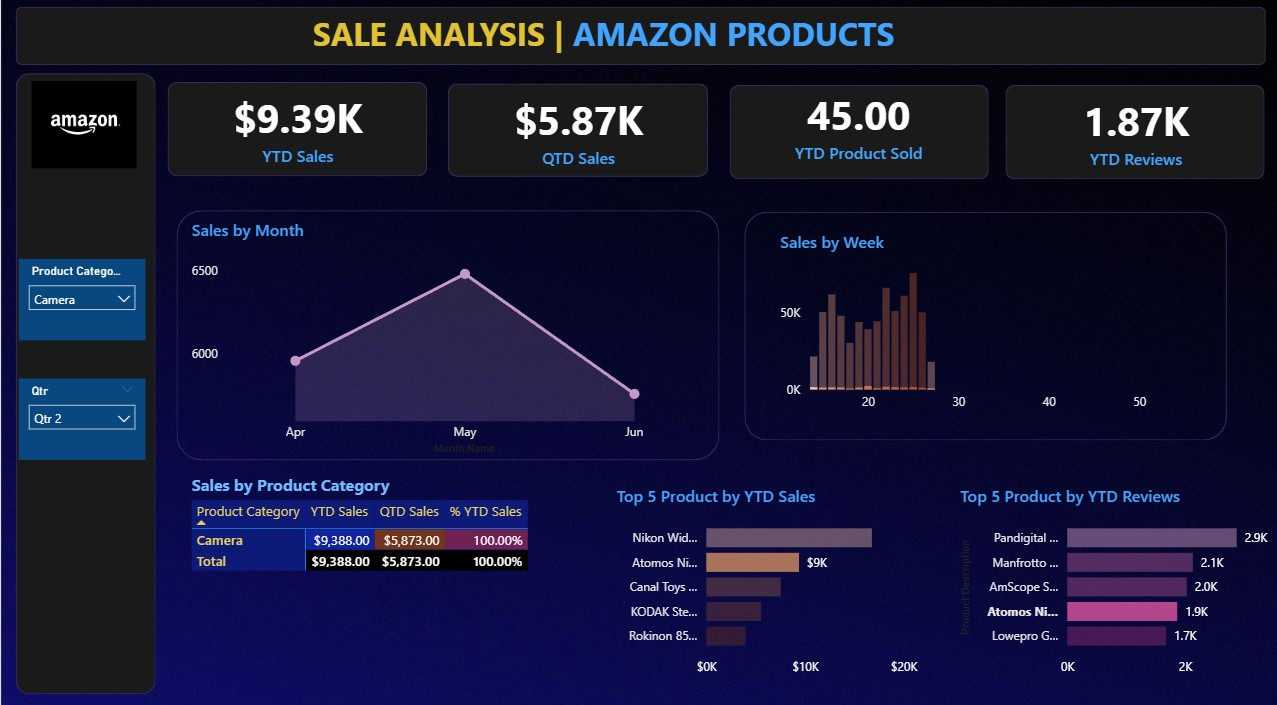

The page's visual inventory and layout, read from the dashboard file:
{"tool":"powerbi","page":{"name":"Page 1","canvas":[1280,720],"ordinal":0},"visuals":[{"type":"shape","box":[15.2,11.4,1250.1,58.1],"z":0},{"type":"textbox","box":[306.8,11.4,765.2,152.8],"z":1000},{"type":"shape","box":[15.2,78.3,140,621.3],"z":2000},{"type":"shape","box":[166.7,87,259.6,94.4],"z":3000},{"type":"card","fields":{"Values":["Amazon_Data.YTD Sales"]},"box":[197.7,90,199.2,85.6],"z":4000},{"type":"shape","box":[446.8,88.4,260.3,93.2],"z":5000},{"type":"shape","box":[729,89.6,259.1,94.5],"z":6000},{"type":"shape","box":[1005.1,89.6,259.1,94.5],"z":7000},{"type":"card","fields":{"Values":["Amazon_Data.QTD Sales"]},"box":[478.3,92,199.8,86],"z":8000},{"type":"card","fields":{"Values":["Amazon_Data.YTD Product Sold"]},"box":[758,87.2,199.8,84.8],"z":9000},{"type":"card","fields":{"Values":["Amazon_Data.YTD Reviews"]},"box":[1035.3,93.2,199.8,86],"z":10000},{"type":"shape","box":[175.5,215.9,543,250],"z":11000},{"type":"areaChart","title":"Sales by Month","fields":{"Category":["Date Table.Month Name"],"Y":["Sum(Amazon_Data.Price(Dollar))"]},"box":[185.9,224.2,520.7,240.5],"z":12000},{"type":"columnChart","title":"Sales by Week","fields":{"Category":["Date Table.Week"],"Y":["Sum(Amazon_Data.Price(Dollar))"]},"box":[774.5,236,421.9,188.8],"z":13000},{"type":"pivotTable","title":"Sales by Product Category","fields":{"Rows":["Amazon_Data.Product Category"],"Values":["Amazon_Data.YTD Sales1","Amazon_Data.QTD Sales","Amazon_Data.YTD Sales"]},"box":[185.9,479.4,439.6,219.8],"z":14000},{"type":"clusteredBarChart","title":"Top 5 Product by YTD Sales","fields":{"Y":["Amazon_Data.YTD Sales"],"Category":["Amazon_Data.Product Description"]},"box":[610.7,489.8,326,200.6],"z":15000},{"type":"clusteredBarChart","title":"Top 5 Product by YTD Reviews","fields":{"Category":["Amazon_Data.Product Description"],"Y":["Amazon_Data.YTD Reviews"]},"box":[954.4,489.8,326,200.6],"z":16000},{"type":"slicer","fields":{"Values":["Amazon_Data.Product Category"]},"box":[17.7,264.1,126.9,81.1],"z":17000},{"type":"slicer","fields":{"Values":["Date Table.Qtr"]},"box":[17.7,383.5,126.9,81.1],"z":18000},{"type":"image","box":[0,81.1,166.7,97.4],"z":19000},{"type":"shape","box":[743.5,216.9,482.4,228.7],"z":19001}]}

Visuals, with their boxes in screenshot pixels (x1, y1, x2, y2), scaled from the page's 1280x720 canvas onto the 1277x705 screenshot:
shape: (15,11,1262,68)
textbox: (306,11,1069,161)
shape: (15,77,155,685)
shape: (166,85,425,178)
card - Amazon_Data.YTD Sales: (197,88,396,172)
shape: (446,87,705,178)
shape: (727,88,986,180)
shape: (1003,88,1261,180)
card - Amazon_Data.QTD Sales: (477,90,677,174)
card - Amazon_Data.YTD Product Sold: (756,85,956,168)
card - Amazon_Data.YTD Reviews: (1033,91,1232,175)
shape: (175,211,717,456)
"Sales by Month" areaChart: (185,220,705,455)
"Sales by Week" columnChart: (773,231,1194,416)
"Sales by Product Category" pivotTable: (185,469,624,685)
"Top 5 Product by YTD Sales" clusteredBarChart: (609,480,935,676)
"Top 5 Product by YTD Reviews" clusteredBarChart: (952,480,1276,676)
slicer - Amazon_Data.Product Category: (18,259,144,338)
slicer - Date Table.Qtr: (18,376,144,455)
image: (0,79,166,175)
shape: (742,212,1223,436)
